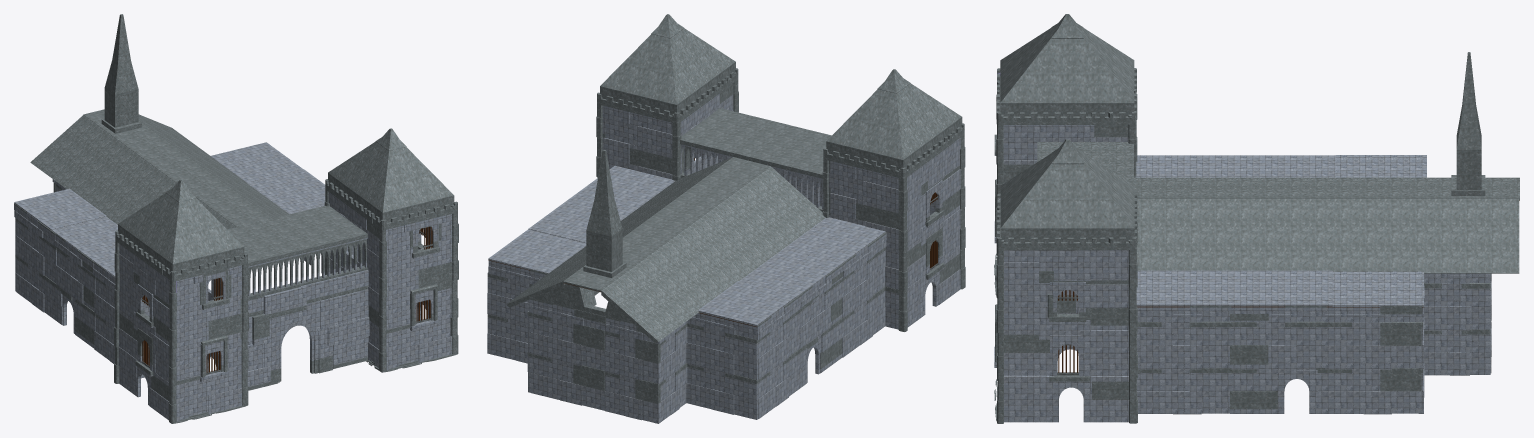
File: GreatHall_nofloor.fbx
The picture shows the model from 3 angles, left to right: view 1: azimuth 30°, elevation 25°; view 2: azimuth 150°, elevation 25°; view 3: azimuth 270°, elevation 25°; orthographic projection. The views are drawn at different scales.
Parts seen in each view (by area): view 1: mergedBlocks; view 2: mergedBlocks; view 3: mergedBlocks.
Part boxes in pixels (x1=…): mergedBlocks: x1=14, y1=14, x2=458, y2=423; mergedBlocks: x1=487, y1=14, x2=965, y2=423; mergedBlocks: x1=994, y1=14, x2=1519, y2=423.
Bounding box in the file's own units: 162 × 126 × 210.
